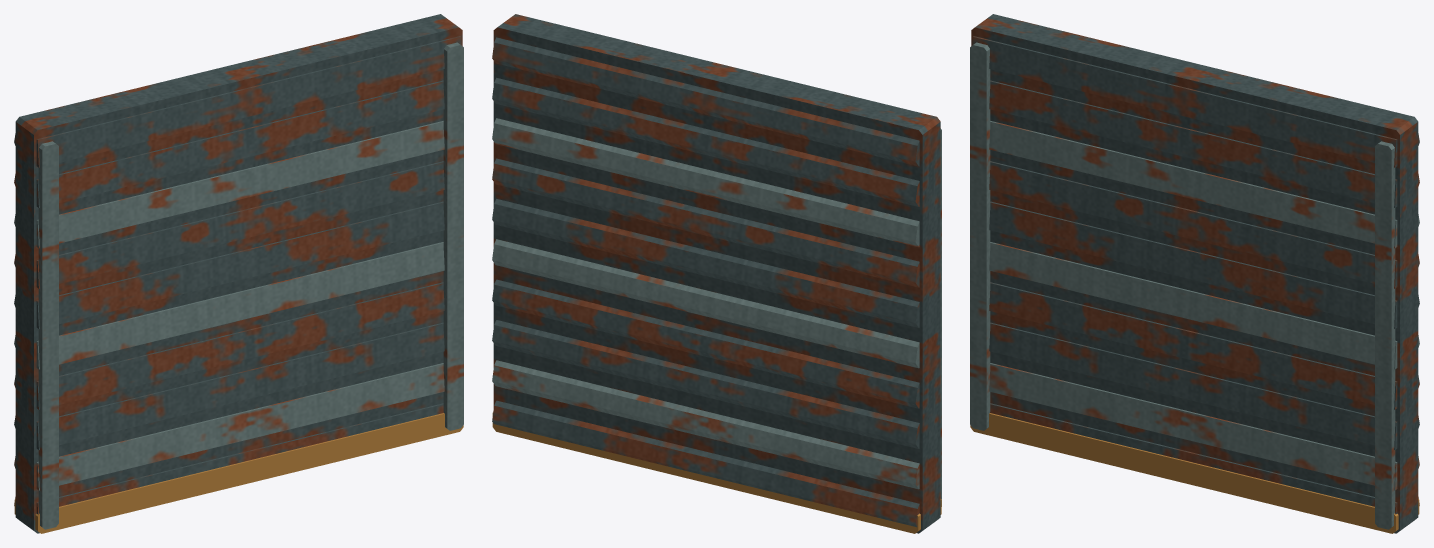
File: shutter.glb
3 views of the same model, side by side, from view 1: azimuth 30°, elevation 25°; view 2: azimuth 150°, elevation 25°; view 3: azimuth 330°, elevation 25° (orthographic).
Parts seen in each view (by area): view 1: FoldedSteelShutter; view 2: FoldedSteelShutter; view 3: FoldedSteelShutter.
Boxes of the visible parts, bbox=[...] form: FoldedSteelShutter: bbox=[14, 14, 463, 533]; FoldedSteelShutter: bbox=[492, 14, 941, 533]; FoldedSteelShutter: bbox=[970, 14, 1419, 533].
Size of the model in its own units: 2.67 by 2.4 by 0.294.
Materials: 4 (2 with a texture image).
